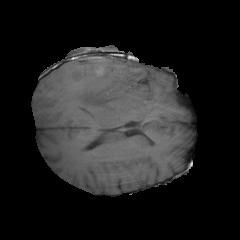glioma: (53, 62, 143, 123)
